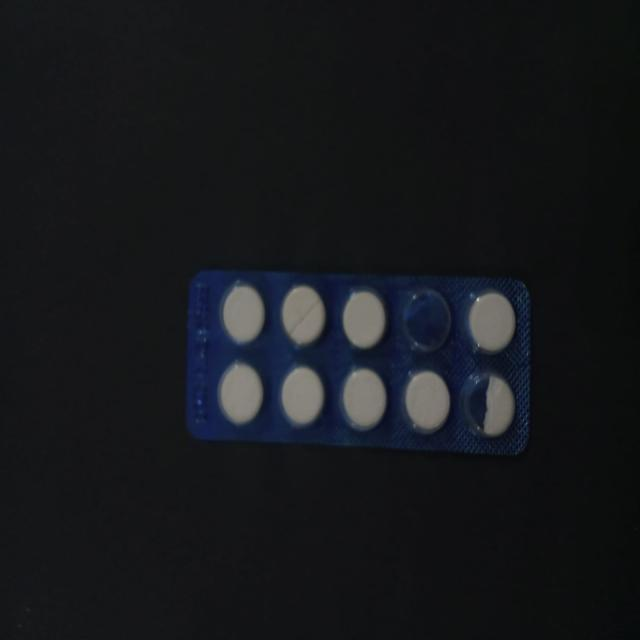defect: (459, 366, 519, 441), (398, 282, 455, 356), (278, 282, 330, 351)
